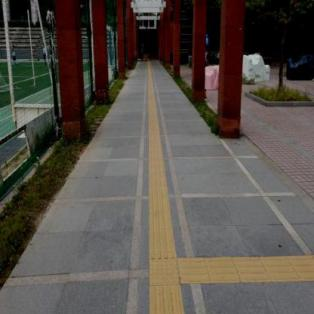Podoctatil: (146, 62, 176, 257), (134, 230, 204, 311), (182, 257, 313, 283), (150, 286, 184, 314)
